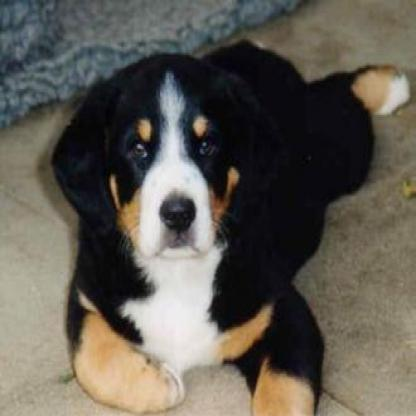EntleBucher: (47, 34, 414, 413)
